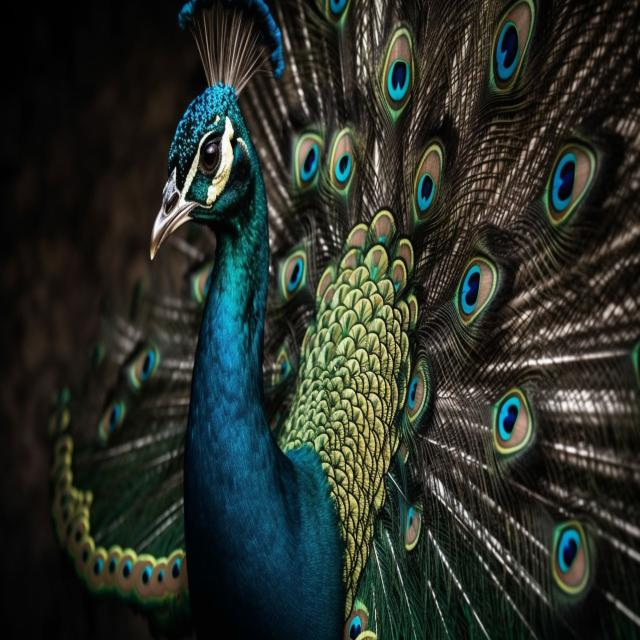peacock: (2, 2, 640, 636)
